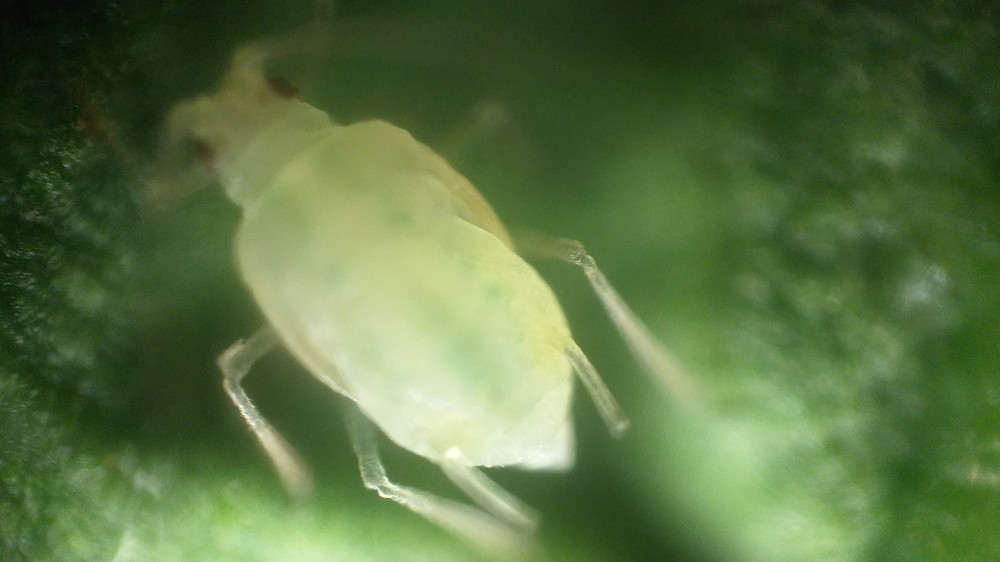Pulgon: (99, 22, 750, 560)
